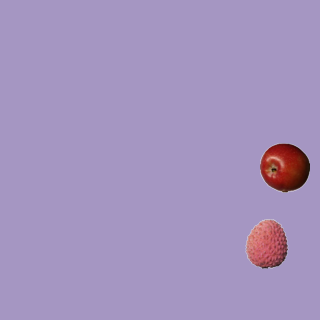Apple Braeburn: (259, 142, 309, 192)
Lychee: (241, 218, 291, 268)
